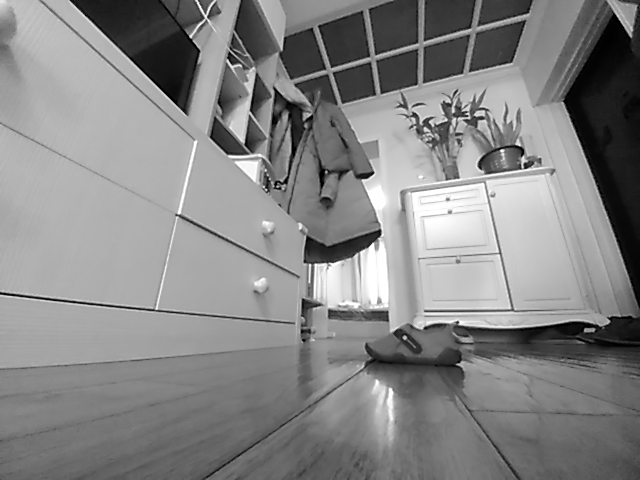shoe: (364, 320, 463, 365)
